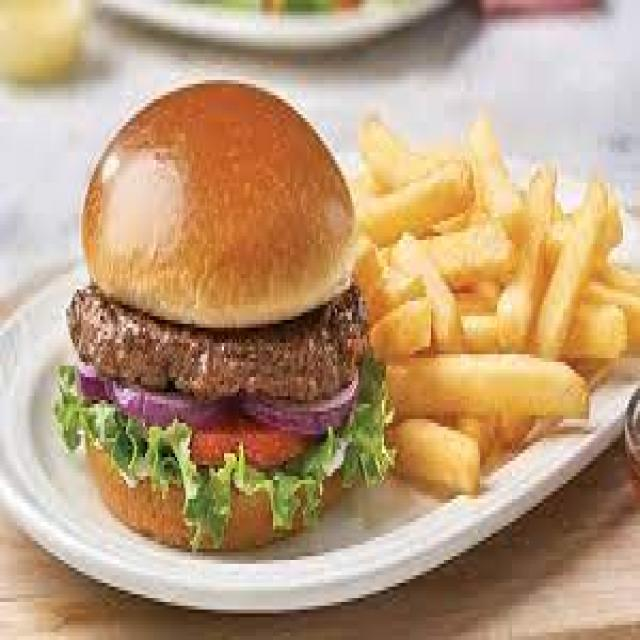감자튀김: (354, 114, 640, 503)
햄버거: (55, 80, 393, 552)
